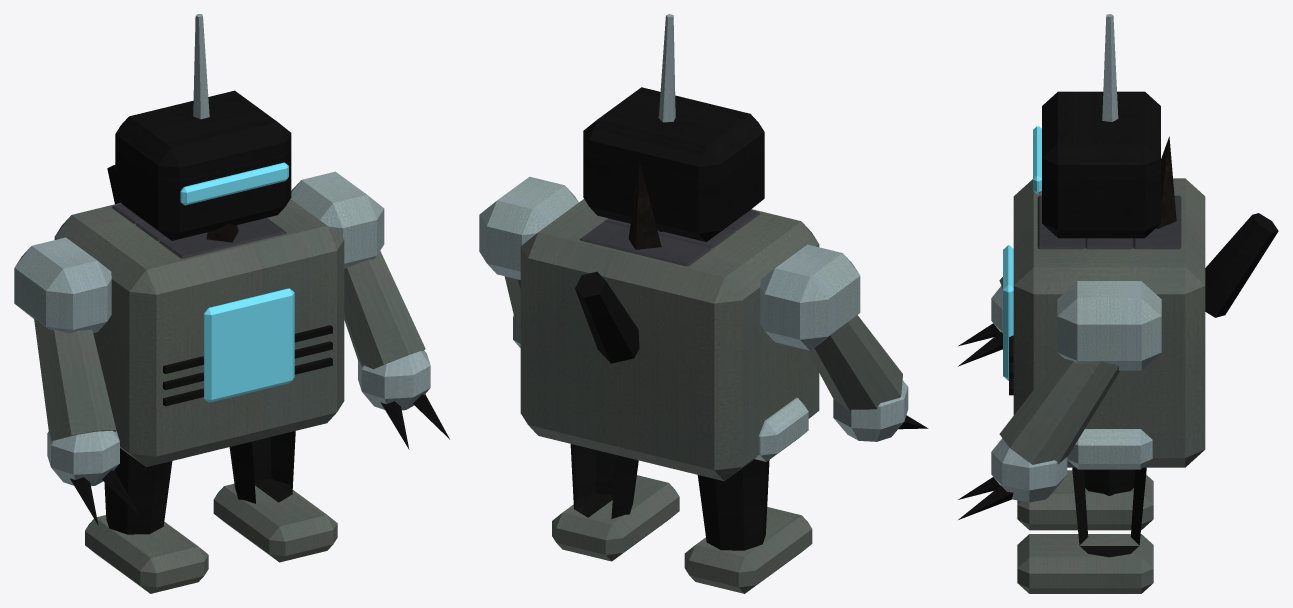
The model's file is mon_sp_dome_colossus.glb.
3 renders of one model, left to right at view 1: azimuth 30°, elevation 25°; view 2: azimuth 150°, elevation 25°; view 3: azimuth 270°, elevation 25°, orthographic. The views are drawn at different scales.
Parts seen in each view (by area): view 1: mon_sp_dome_colossus; view 2: mon_sp_dome_colossus; view 3: mon_sp_dome_colossus.
Boxes of the visible parts, x1,y1,x2,y2 form: mon_sp_dome_colossus: (14, 14, 449, 593); mon_sp_dome_colossus: (479, 14, 928, 593); mon_sp_dome_colossus: (958, 14, 1278, 593).
Size of the model in its own units: 1.98 by 2.65 by 1.44.
6 materials, 6 textured.
